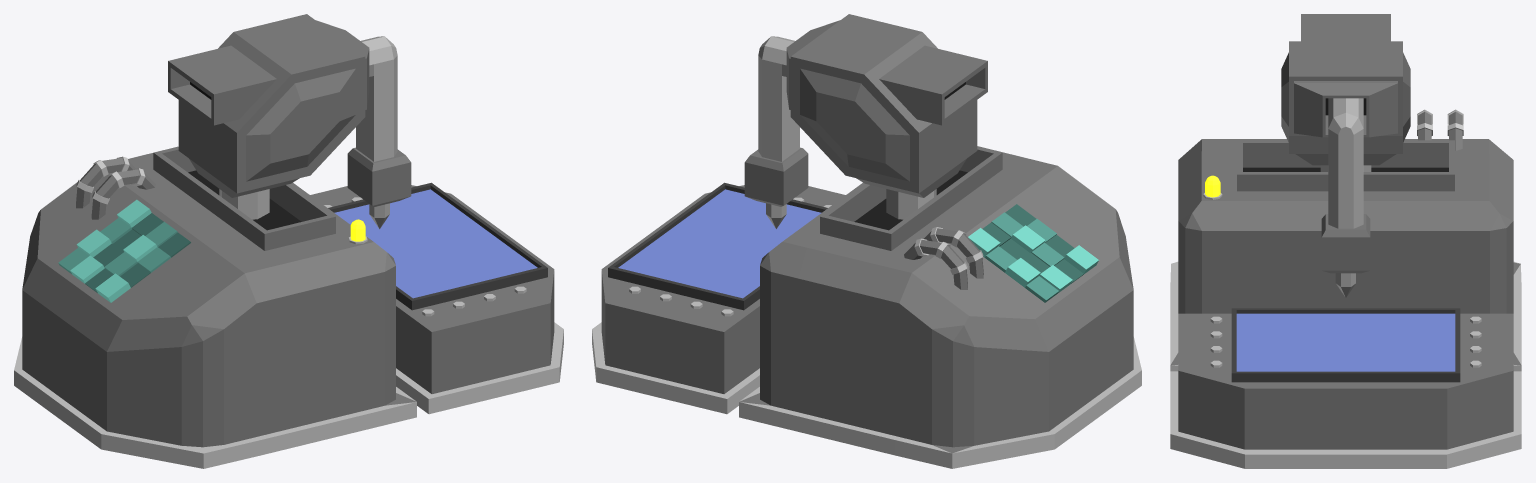
The model's file is proj_cosmo.fbx.
3 renders of one model, left to right at view 1: azimuth 30°, elevation 25°; view 2: azimuth 150°, elevation 25°; view 3: azimuth 270°, elevation 25°, orthographic.
Parts seen in each view (by area): view 1: crafter_main, crafter_movement, crafter_platform, crafter_craft_plane, crafter_pipe_2, crafter_cosmo_panel, crafter_wire_2, crafter_wire1, crafter_pipe_1; view 2: crafter_main, crafter_movement, crafter_platform, crafter_craft_plane, crafter_pipe_2, crafter_cosmo_panel, crafter_wire1, crafter_wire_2, crafter_pipe_1; view 3: crafter_main, crafter_platform, crafter_craft_plane, crafter_movement, crafter_pipe_2, crafter_wire1, crafter_wire_2, crafter_laser, crafter_light.
Boxes of the visible parts, box(x1,y1,x2,y2) form: crafter_main: box(14, 146, 416, 468); crafter_movement: box(168, 14, 369, 197); crafter_platform: box(310, 185, 563, 414); crafter_craft_plane: box(328, 182, 547, 310); crafter_pipe_2: box(347, 36, 411, 206); crafter_cosmo_panel: box(58, 199, 190, 302); crafter_wire_2: box(91, 168, 155, 219); crafter_wire1: box(76, 156, 135, 208); crafter_pipe_1: box(219, 189, 269, 219); crafter_main: box(739, 146, 1141, 468); crafter_movement: box(786, 14, 987, 197); crafter_platform: box(592, 185, 845, 414); crafter_craft_plane: box(608, 182, 827, 310); crafter_pipe_2: box(744, 36, 808, 206); crafter_cosmo_panel: box(968, 204, 1098, 302); crafter_wire1: box(904, 238, 967, 289); crafter_wire_2: box(924, 227, 983, 278); crafter_pipe_1: box(886, 189, 936, 219); crafter_main: box(1170, 139, 1521, 371); crafter_platform: box(1170, 313, 1521, 468); crafter_craft_plane: box(1231, 308, 1460, 382); crafter_movement: box(1281, 14, 1410, 165); crafter_pipe_2: box(1321, 98, 1370, 273); crafter_wire1: box(1447, 109, 1463, 150); crafter_wire_2: box(1417, 109, 1432, 140); crafter_laser: box(1335, 273, 1355, 297); crafter_light: box(1203, 175, 1222, 199).
Size of the model in its own units: 307 by 203 by 210.
